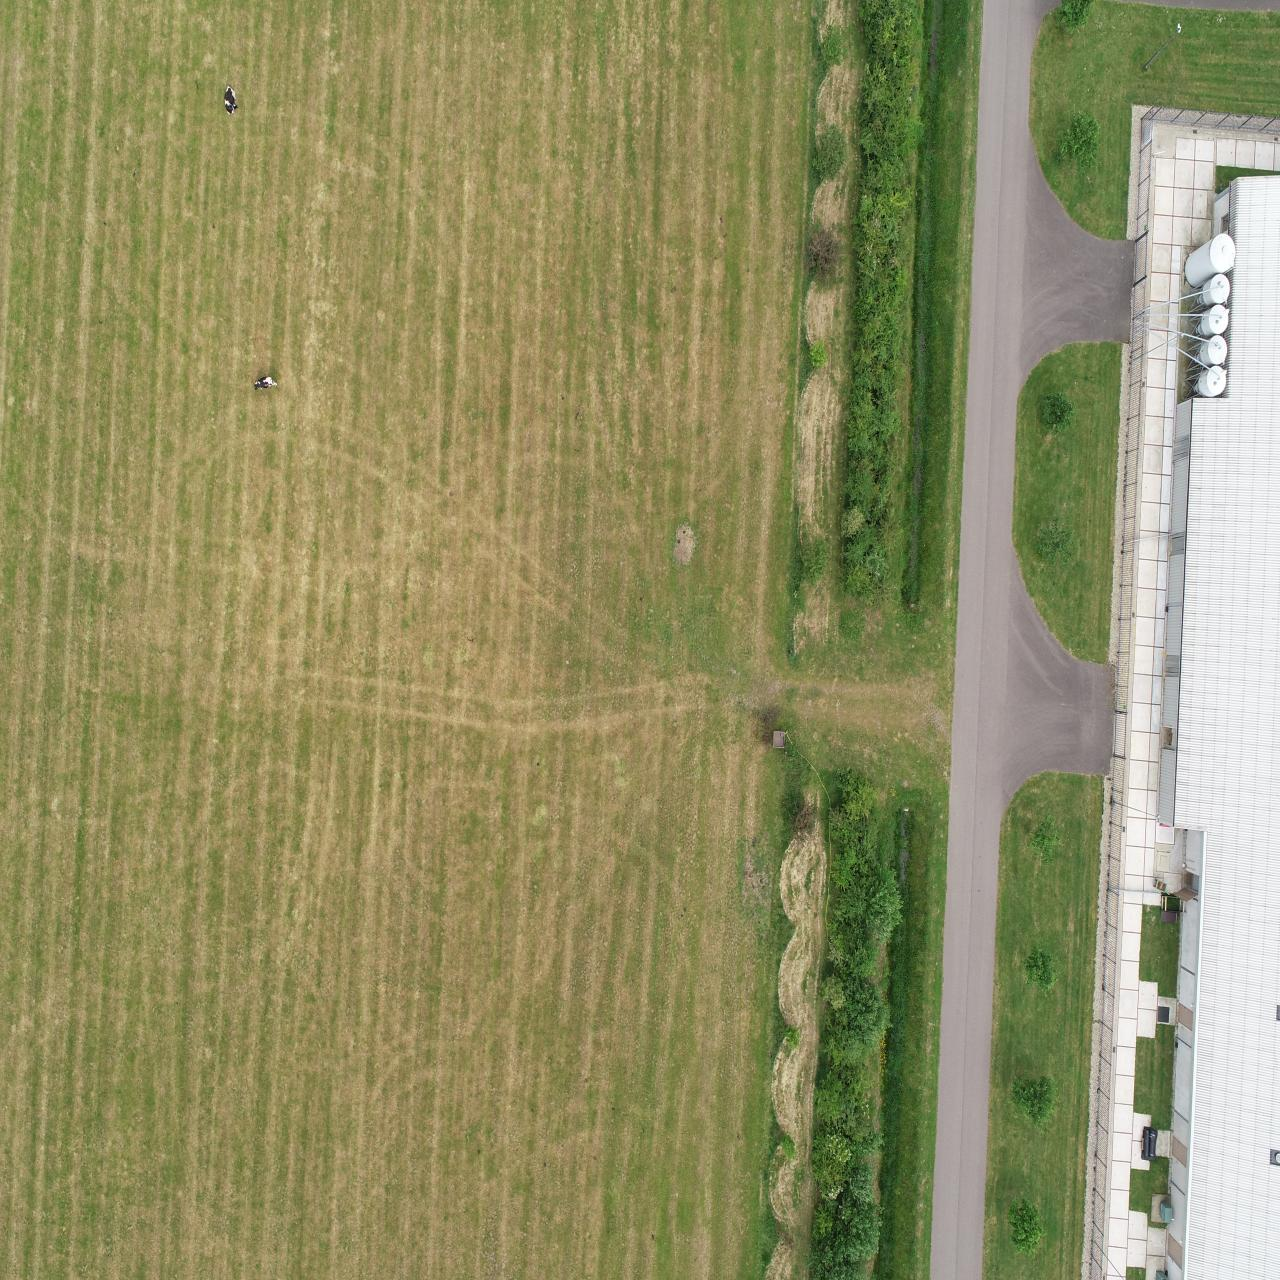cow: (223, 82, 240, 120), (252, 374, 278, 393)
